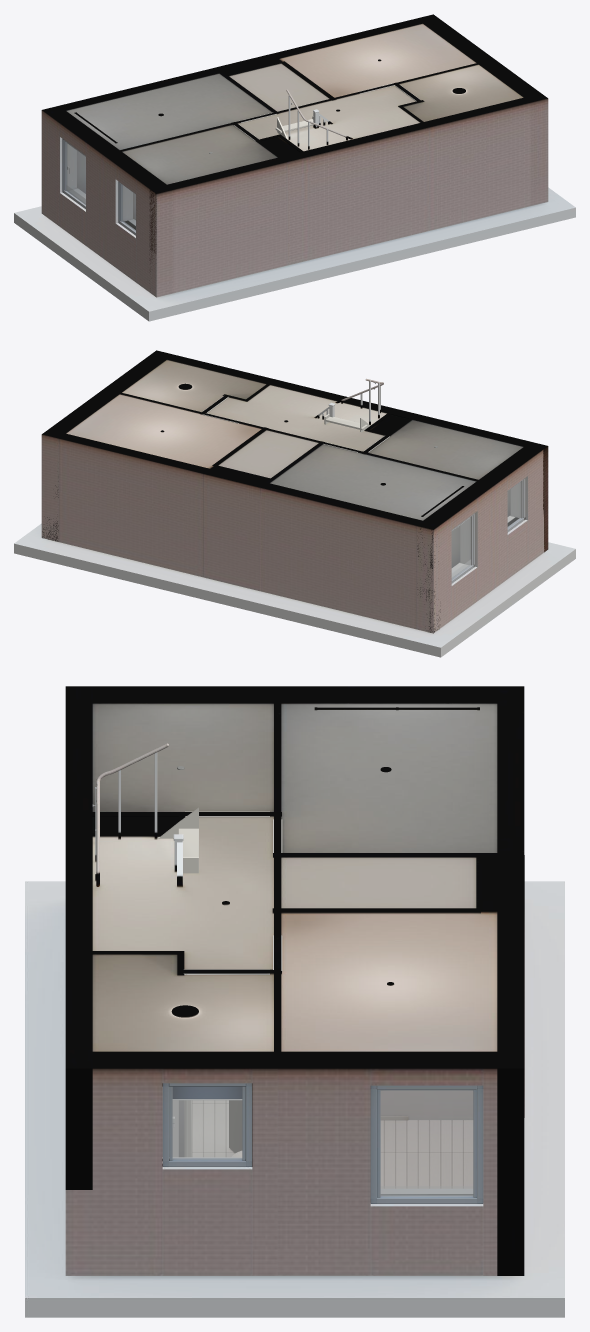
The model's file is floor1-walls.glb.
The picture shows the model from 3 angles, top to bottom: view 1: azimuth 30°, elevation 25°; view 2: azimuth 150°, elevation 25°; view 3: azimuth 270°, elevation 25°; orthographic projection. The views are drawn at different scales.
Parts seen in each view (by area): view 1: realism__roof_kept, shell__plinth, wall__W-south-office_0_0, wall__W-south-stair_0_0, wall__W-south-bath_0_0, LowWall__wall__W-south-office_0_0, LowWall__wall__W-south-stair_0_0, LowWall__wall__W-south-bath_0_0, wall__W-south-box_0_0, wall__W-back-bedroom_0_0, wall__W-back-office_0_0, wall__W-back-bedroom_0_3 (+19 smaller); view 2: realism__roof_kept, wall__W-north-lego_0_0, shell__plinth, wall__W-north-bedroom_0_0, LowWall__wall__W-north-bedroom_0_0, LowWall__wall__W-north-lego_0_0, wall__W-north-closet_0_0, wall__W-back-bedroom_0_0, LowWall__wall__W-north-closet_0_0, wall__W-back-bedroom_0_3, wall__W-back-office_0_3, wall__W-front-lego_0_0 (+20 smaller); view 3: realism__roof_kept, shell__plinth, wall__W-front-lego_0_3, wall__W-front-bath_0_1, wall__W-front-bath_0_3, window__W-front-lego_0_2_B_pbr, wall__W-north-lego_0_0, LowWall__wall__W-front-bath_0_3, wall__W-front-lego_0_1, LowWall__wall__W-front-lego_0_3, wall__W-south-bath_0_0, Floor__lego_room (+30 smaller).
Boxes of the visible parts, left/top/right/bottom form: realism__roof_kept: left=66, top=24, right=523, bottom=184; shell__plinth: left=14, top=187, right=575, bottom=321; wall__W-south-office_0_0: left=149, top=157, right=287, bottom=296; wall__W-south-stair_0_0: left=303, top=123, right=429, bottom=259; wall__W-south-bath_0_0: left=423, top=93, right=548, bottom=230; LowWall__wall__W-south-office_0_0: left=149, top=223, right=287, bottom=297; LowWall__wall__W-south-stair_0_0: left=308, top=188, right=429, bottom=260; LowWall__wall__W-south-bath_0_0: left=429, top=159, right=548, bottom=230; wall__W-south-box_0_0: left=281, top=152, right=308, bottom=265; wall__W-back-bedroom_0_0: left=41, top=110, right=76, bottom=226; wall__W-back-office_0_0: left=103, top=151, right=132, bottom=265; wall__W-back-bedroom_0_3: left=86, top=138, right=120, bottom=249; realism__roof_kept: left=66, top=360, right=523, bottom=520; wall__W-north-lego_0_0: left=49, top=433, right=209, bottom=576; shell__plinth: left=14, top=523, right=575, bottom=657; wall__W-north-bedroom_0_0: left=255, top=481, right=439, bottom=628; LowWall__wall__W-north-bedroom_0_0: left=260, top=548, right=440, bottom=632; LowWall__wall__W-north-lego_0_0: left=42, top=499, right=203, bottom=577; wall__W-north-closet_0_0: left=203, top=465, right=270, bottom=590; wall__W-back-bedroom_0_0: left=416, top=512, right=451, bottom=631; LowWall__wall__W-north-closet_0_0: left=203, top=535, right=260, bottom=591; wall__W-back-bedroom_0_3: left=460, top=480, right=495, bottom=600; wall__W-back-office_0_3: left=510, top=446, right=543, bottom=559; wall__W-front-lego_0_0: left=41, top=427, right=69, bottom=541; realism__roof_kept: left=92, top=704, right=497, bottom=1051; shell__plinth: left=25, top=881, right=564, bottom=1317; wall__W-front-lego_0_3: left=277, top=1051, right=370, bottom=1189; wall__W-front-bath_0_1: left=162, top=1157, right=252, bottom=1275; wall__W-front-bath_0_3: left=92, top=1051, right=162, bottom=1189; window__W-front-lego_0_2_B_pbr: left=381, top=1090, right=472, bottom=1196; wall__W-north-lego_0_0: left=497, top=910, right=524, bottom=1275; LowWall__wall__W-front-bath_0_3: left=65, top=1190, right=162, bottom=1275; wall__W-front-lego_0_1: left=370, top=1204, right=483, bottom=1275; LowWall__wall__W-front-lego_0_3: left=277, top=1190, right=370, bottom=1275; wall__W-south-bath_0_0: left=65, top=952, right=92, bottom=1189; Floor__lego_room: left=380, top=1120, right=473, bottom=1188.
Size of the model in its own units: 10.9 by 3.99 by 5.97.
38 materials, 17 textured.
